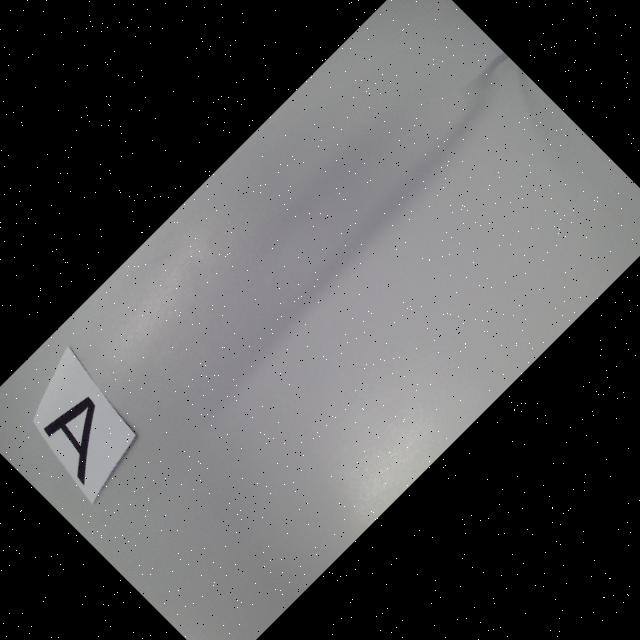FAKE: (36, 389, 130, 484)
